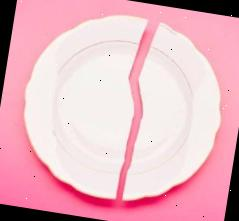glass: (9, 1, 235, 216)
